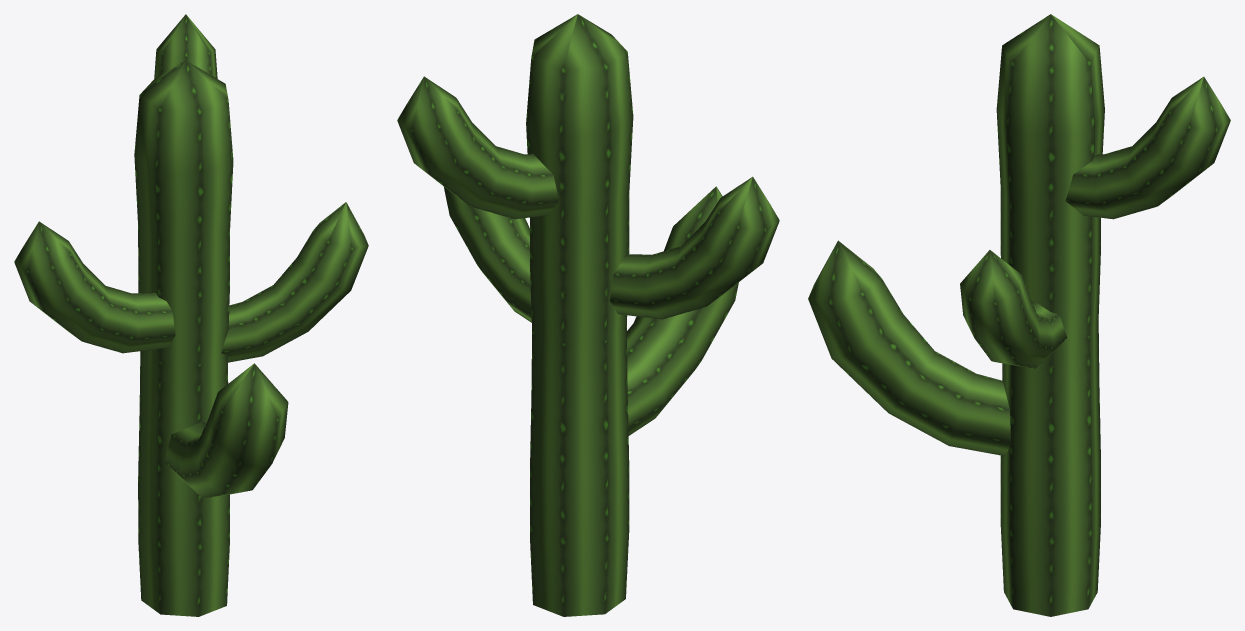
The model's file is Ctn_cactus_01_v02.FBX.
The picture shows the model from 3 angles, left to right: view 1: azimuth 30°, elevation 25°; view 2: azimuth 150°, elevation 25°; view 3: azimuth 270°, elevation 25°; orthographic projection. The views are drawn at different scales.
Parts seen in each view (by area): view 1: Ctn_cactus_01_v02; view 2: Ctn_cactus_01_v02; view 3: Ctn_cactus_01_v02.
Boxes of the visible parts, x1,y1,x2,y2 form: Ctn_cactus_01_v02: (14,14,368,616); Ctn_cactus_01_v02: (397,14,779,616); Ctn_cactus_01_v02: (808,14,1230,616).
Size of the model in its own units: 77.76 by 123 by 80.92.
